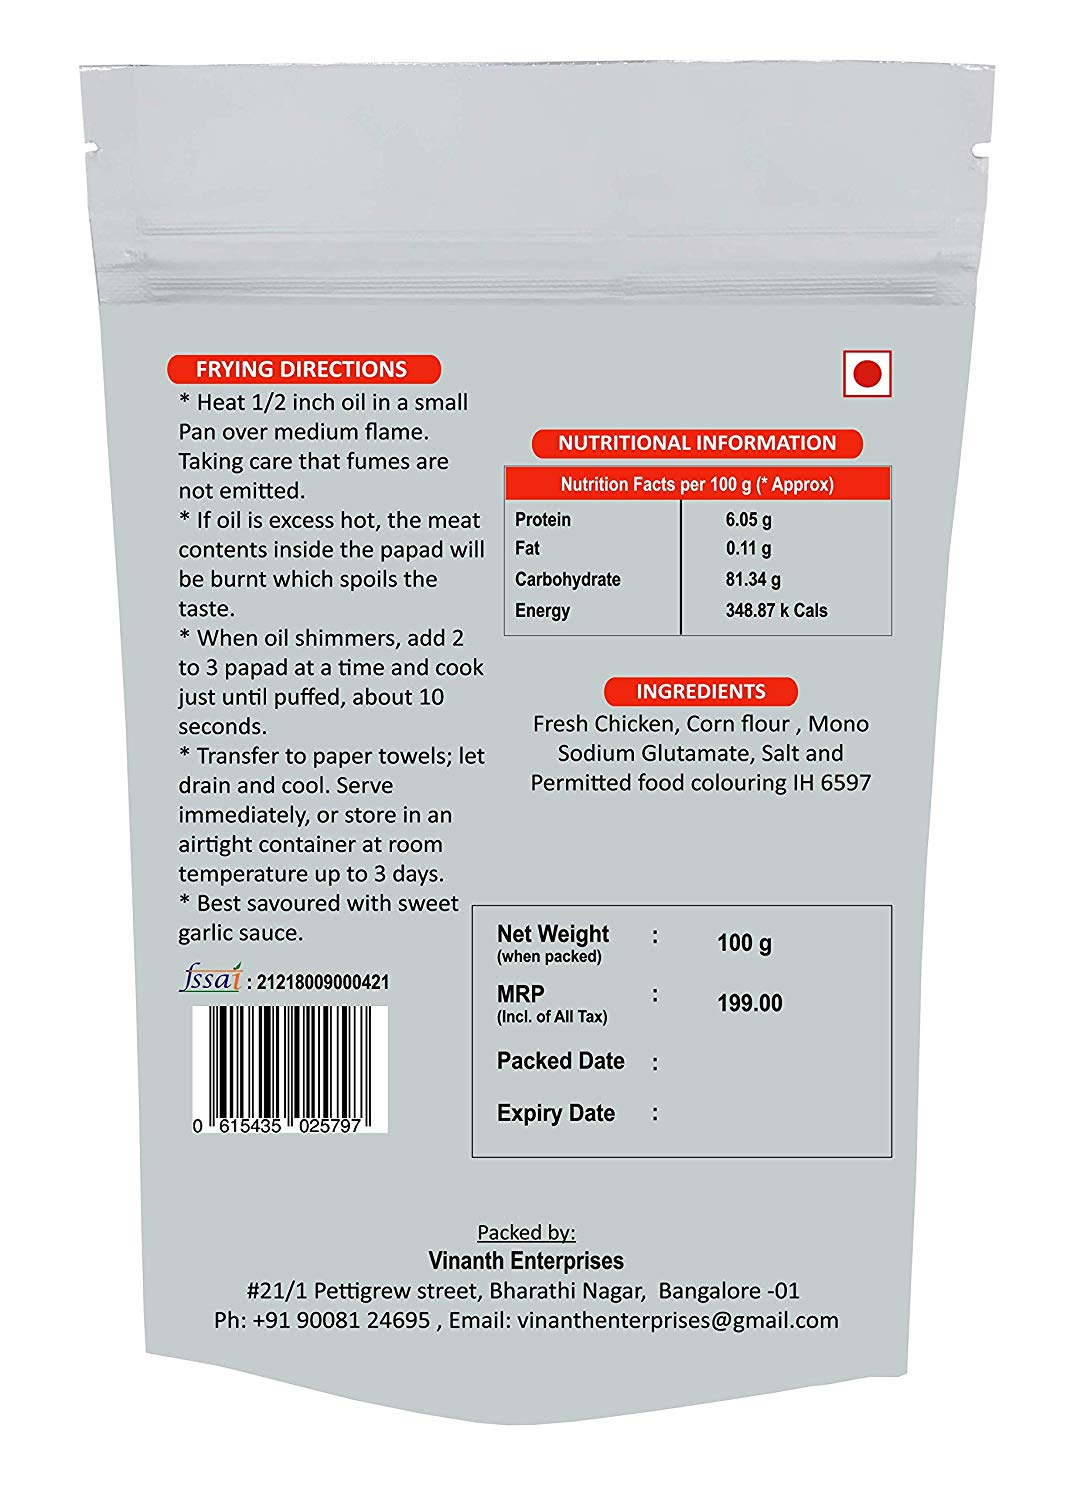nonveg_red: (837, 346, 898, 399)
